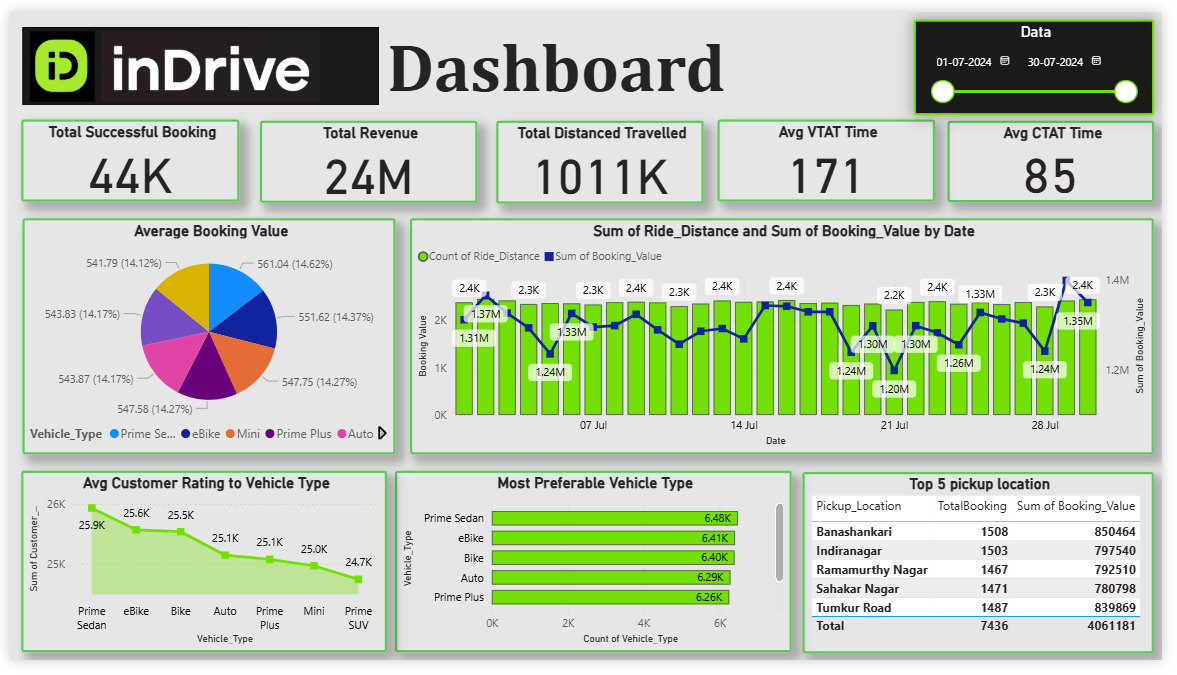

Layout of this report page (visuals, bound fields, positions):
{"tool":"powerbi","page":{"name":"Dashboard","canvas":[1280,720],"ordinal":0},"visuals":[{"type":"pieChart","title":"Average Booking Value","fields":{"Category":["Bengaluru_inDrive_Booking_Data_01.Vehicle_Type"],"Y":["Avg(Bengaluru_inDrive_Booking_Data_01.Booking_Value)"]},"box":[13.3,229.3,414.7,262.7],"z":0},{"type":"lineStackedColumnComboChart","title":"Sum of Ride_Distance and Sum of Booking_Value by Date","fields":{"Y2":["Sum(Bengaluru_inDrive_Booking_Data_01.Booking_Value)"],"Y":["CountNonNull(Bengaluru_inDrive_Booking_Data_01.Ride_Distance)"],"Category":["Bengaluru_inDrive_Booking_Data_01.Date"]},"box":[444,229.3,826.7,262.7],"z":1000},{"type":"clusteredBarChart","title":"Most Preferable Vehicle Type","fields":{"Category":["Bengaluru_inDrive_Booking_Data_01.Vehicle_Type"],"Y":["CountNonNull(Bengaluru_inDrive_Booking_Data_01.Vehicle_Type)"]},"box":[428.1,509.1,440.5,201.7],"z":2000},{"type":"tableEx","title":"Top 5 pickup location ","fields":{"Values":["Bengaluru_inDrive_Booking_Data_01.Pickup_Location","Bengaluru_inDrive_Booking_Data_01.TotalBooking","Sum(Bengaluru_inDrive_Booking_Data_01.Booking_Value)"]},"box":[880.1,510.7,390.4,201.5],"z":3000},{"type":"lineChart","title":"Avg Customer Rating to Vehicle Type","fields":{"Category":["Bengaluru_inDrive_Booking_Data_01.Vehicle_Type"],"Y":["Sum(Bengaluru_inDrive_Booking_Data_01.Customer_Rating)"]},"box":[12,509.3,406.7,201.3],"z":4000},{"type":"card","title":"Total Revenue","fields":{"Values":["Sum(Bengaluru_inDrive_Booking_Data_01.Booking_Value)"]},"box":[277.6,120.6,241.2,91.6],"z":5000},{"type":"card","title":"Total Successful Booking","fields":{"Values":["CountNonNull(Bengaluru_inDrive_Booking_Data_01.Booking_ID)"]},"box":[13.1,119.2,242.7,91.6],"z":6000},{"type":"card","title":"Total Distanced Travelled","fields":{"Values":["Sum(Bengaluru_inDrive_Booking_Data_01.Ride_Distance)"]},"box":[539.9,120.2,230.7,92],"z":7000},{"type":"card","title":"Avg CTAT Time","fields":{"Values":["Avg(Bengaluru_inDrive_Booking_Data_01.C_TAT)"]},"box":[1042,120.6,229.6,90.1],"z":8000},{"type":"card","title":"Avg VTAT Time","fields":{"Values":["Sum(Bengaluru_inDrive_Booking_Data_01.V_TAT)"]},"box":[786.2,119.2,241.2,91.6],"z":9000},{"type":"textbox","box":[13.3,17.3,396,86.7],"z":10000},{"type":"image","box":[13.3,17.3,338.7,88],"z":11000},{"type":"textbox","title":"Dashboard","box":[413.3,17.3,420,86.7],"z":12000},{"type":"slicer","title":"Data","fields":{"Values":["Bengaluru_inDrive_Booking_Data_01.Date"]},"box":[1004.2,7.7,266.9,106.4],"z":13000}]}

Visuals, with their boxes in screenshot pixels (x1, y1, x2, y2), scaled from the page's 1280x720 canvas onto the 1177x675 screenshot:
"Average Booking Value" pieChart: 12 215 394 461
"Sum of Ride_Distance and Sum of Booking_Value by Date" lineStackedColumnComboChart: 408 215 1168 461
"Most Preferable Vehicle Type" clusteredBarChart: 394 477 799 666
"Top 5 pickup location " tableEx: 809 479 1168 668
"Avg Customer Rating to Vehicle Type" lineChart: 11 477 385 666
"Total Revenue" card: 255 113 477 199
"Total Successful Booking" card: 12 112 235 198
"Total Distanced Travelled" card: 496 113 709 199
"Avg CTAT Time" card: 958 113 1169 198
"Avg VTAT Time" card: 723 112 945 198
textbox: 12 16 376 98
image: 12 16 324 99
"Dashboard" textbox: 380 16 766 98
"Data" slicer: 923 7 1169 107
